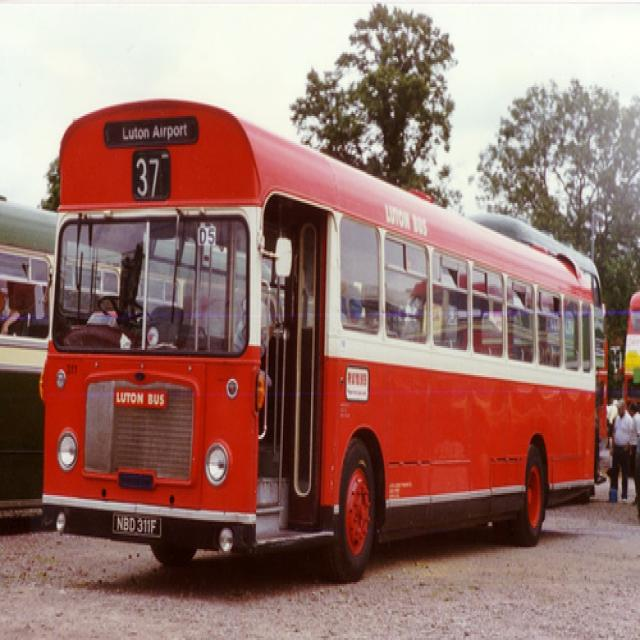bus: (39, 98, 595, 585)
person: (608, 399, 633, 502), (627, 403, 640, 506)
